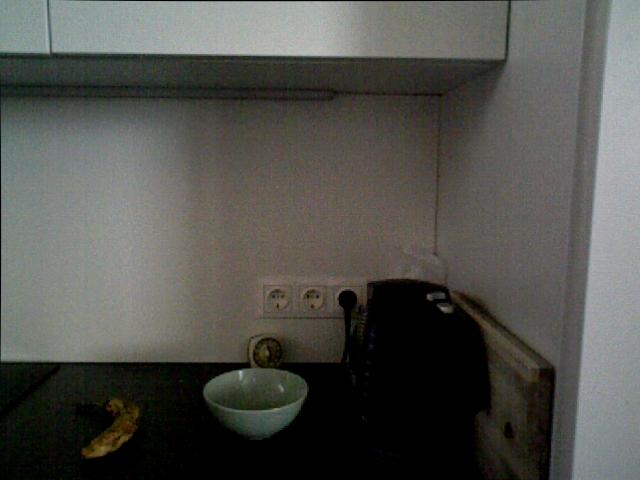bird: (202, 367, 308, 440)
giraffe: (247, 334, 287, 372)
motorcycle: (66, 388, 147, 462)
